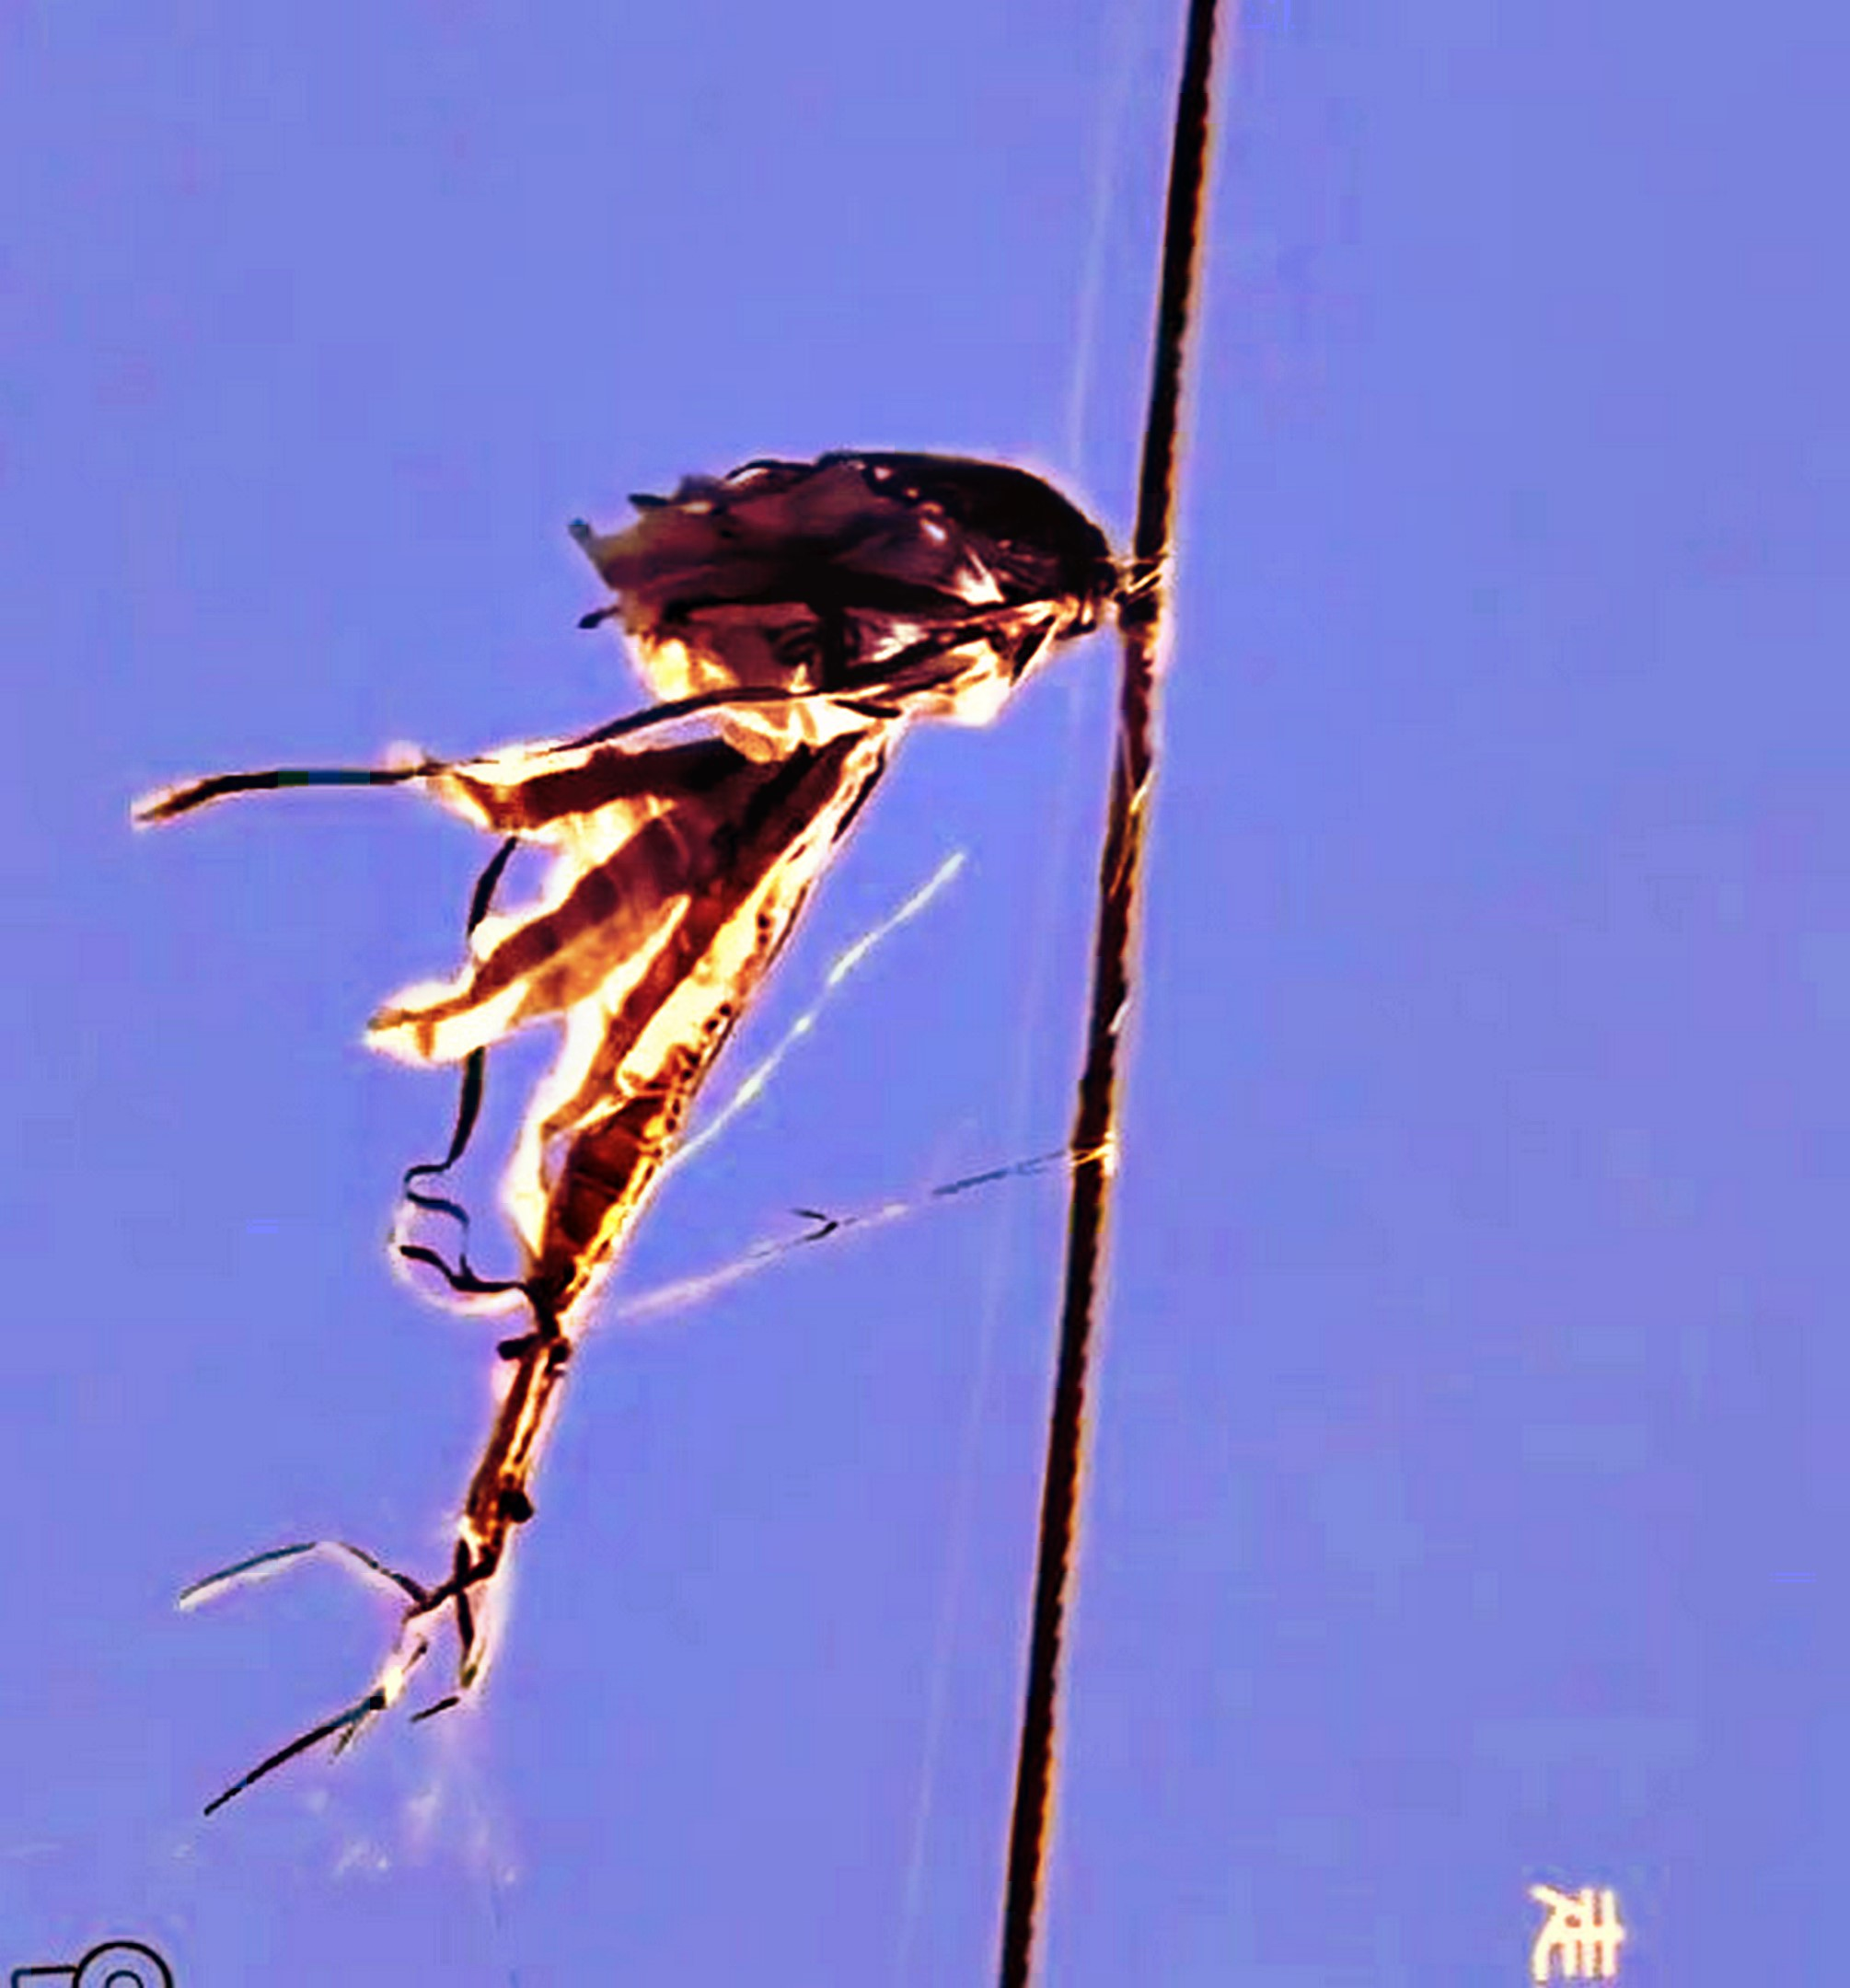wire foreign body: (238, 367, 1259, 1491)
